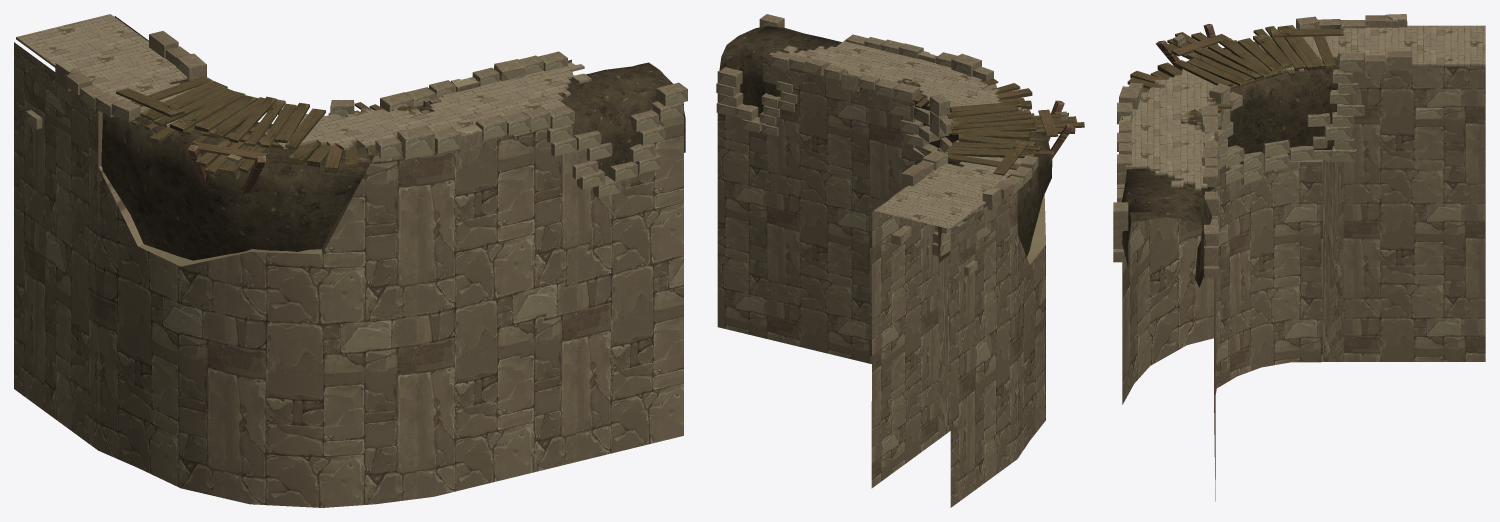
File: bfcs_daolu_01.FBX
3 renders of one model, left to right at view 1: azimuth 30°, elevation 25°; view 2: azimuth 150°, elevation 25°; view 3: azimuth 270°, elevation 25°, orthographic. The views are drawn at different scales.
Visible parts, largest first — view 1: bfcs_03, bfcs_04, bfcs_02, bfcs_01; view 2: bfcs_03, bfcs_02, bfcs_01, bfcs_04; view 3: bfcs_03, bfcs_02, bfcs_04, bfcs_01.
Part boxes in pixels (box(x1,y1,x2,y2)): bfcs_03: box(14, 16, 687, 507); bfcs_04: box(101, 62, 685, 260); bfcs_02: box(16, 14, 591, 150); bfcs_01: box(116, 76, 419, 194); bfcs_03: box(716, 14, 1067, 507); bfcs_02: box(769, 40, 1023, 230); bfcs_01: box(907, 78, 1084, 175); bfcs_04: box(719, 26, 1052, 263); bfcs_03: box(1113, 14, 1485, 501); bfcs_02: box(1125, 25, 1485, 190); bfcs_04: box(1121, 28, 1343, 287); bfcs_01: box(1127, 24, 1344, 118).
Bounding box in the file's own units: 855 × 637 × 700.
